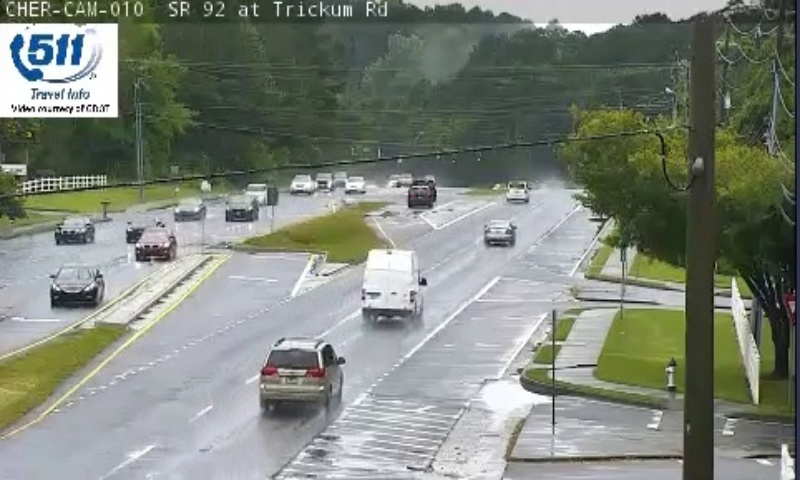car: (260, 341, 341, 402), (484, 220, 514, 245), (506, 180, 527, 202)
van: (361, 250, 419, 315)
